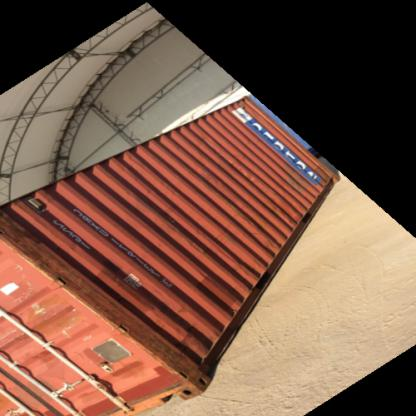Damage: (0, 213, 63, 290), (138, 323, 204, 381), (226, 153, 266, 184), (191, 260, 217, 285), (237, 208, 260, 236), (186, 238, 208, 255), (164, 217, 181, 237)
